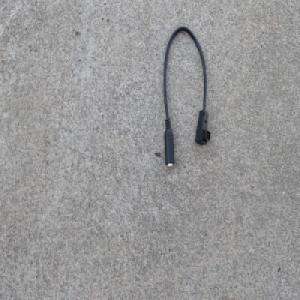Wire: (161, 24, 210, 171)
